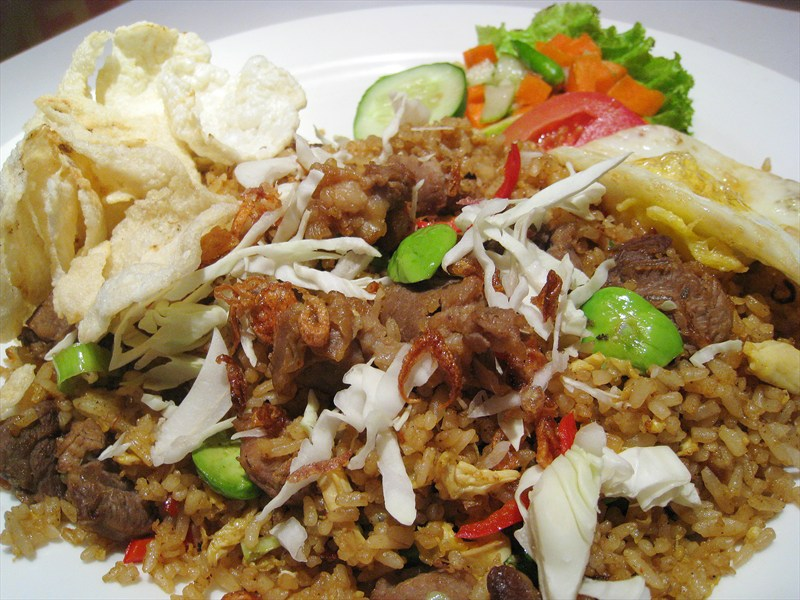Nasi Goreng: (92, 94, 718, 561)
